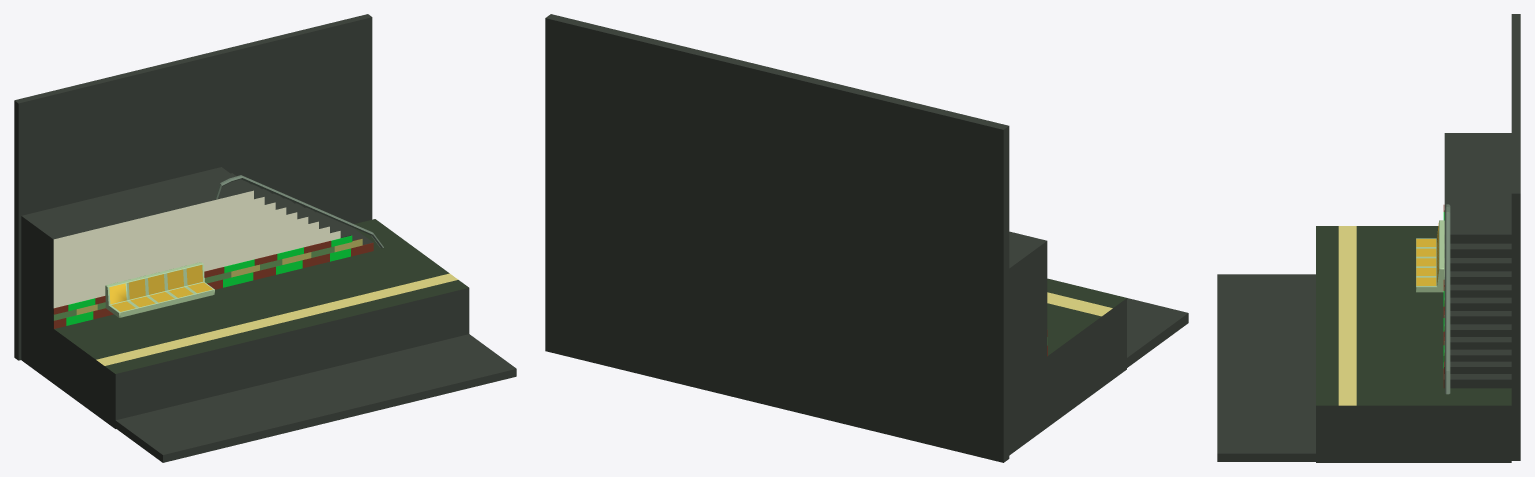
Rendered from estacion.fbx.
3 renders of one model, left to right at view 1: azimuth 30°, elevation 25°; view 2: azimuth 150°, elevation 25°; view 3: azimuth 270°, elevation 25°, orthographic. The views are drawn at different scales.
Parts seen in each view (by area): view 1: Cube.003, Cube, Cube.002, Cube.001, Cube.004, Plane, Plane.002, Plane.001, Cylinder.022; view 2: Cube.003, Cube, Cube.002, Cube.001; view 3: Cube, Cube.001, Cube.002, Cube.003, Cube.004, Cylinder.022.
Boxes of the visible parts, x1=… form: Cube.003: x1=14, y1=14, x2=372, y2=360; Cube: x1=21, y1=219, x2=469, y2=428; Cube.002: x1=21, y1=167, x2=372, y2=328; Cube.001: x1=115, y1=334, x2=516, y2=462; Cube.004: x1=105, y1=262, x2=214, y2=317; Plane: x1=53, y1=242, x2=373, y2=328; Plane.002: x1=53, y1=235, x2=352, y2=314; Plane.001: x1=53, y1=238, x2=362, y2=320; Cylinder.022: x1=215, y1=175, x2=383, y2=248; Cube.003: x1=545, y1=14, x2=1009, y2=462; Cube: x1=1009, y1=278, x2=1126, y2=455; Cube.002: x1=1009, y1=231, x2=1047, y2=383; Cube.001: x1=1126, y1=298, x2=1188, y2=367; Cube: x1=1316, y1=226, x2=1511, y2=462; Cube.001: x1=1217, y1=274, x2=1316, y2=461; Cube.002: x1=1444, y1=133, x2=1511, y2=388; Cube.003: x1=1511, y1=14, x2=1520, y2=460; Cube.004: x1=1416, y1=220, x2=1444, y2=292; Cylinder.022: x1=1445, y1=204, x2=1450, y2=394.
Bounding box in the file's own units: 2628 × 1813 × 1860.
